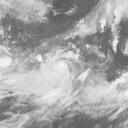cyclone: (38, 48, 81, 94)
